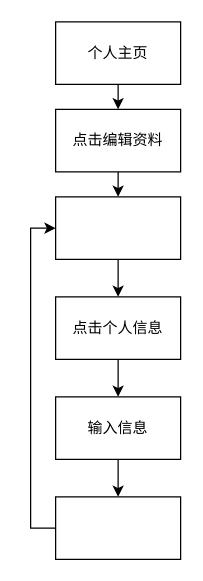
Image size: 203x581. Some labels were removed from this diagram. The shapes that lost their labels are listed below. From the top down, each one's centre as x and y in pixels, then its label:
At (117,227): "进入账户设置".
At (117,527): "点击保存".
